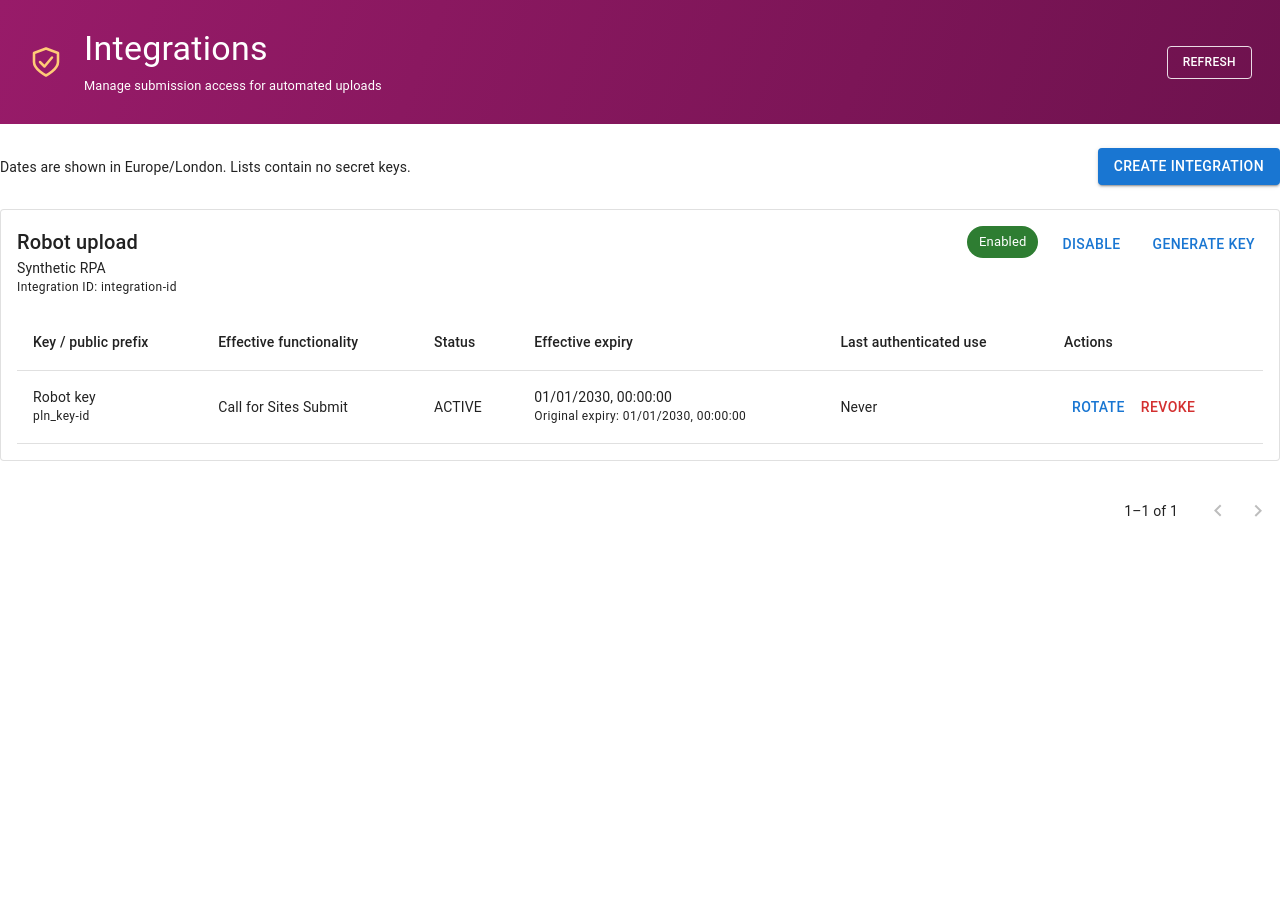
Test: integration administration › cancels key without a write
The width and height of the screenshot is (1280, 900).
Expected: the heading "Robot upload" is shown, [17,230,138,254]
Step 1. Click the button with aria-label "Generate key for Robot upload" → (1204, 244), box [1144,226,1263,262]
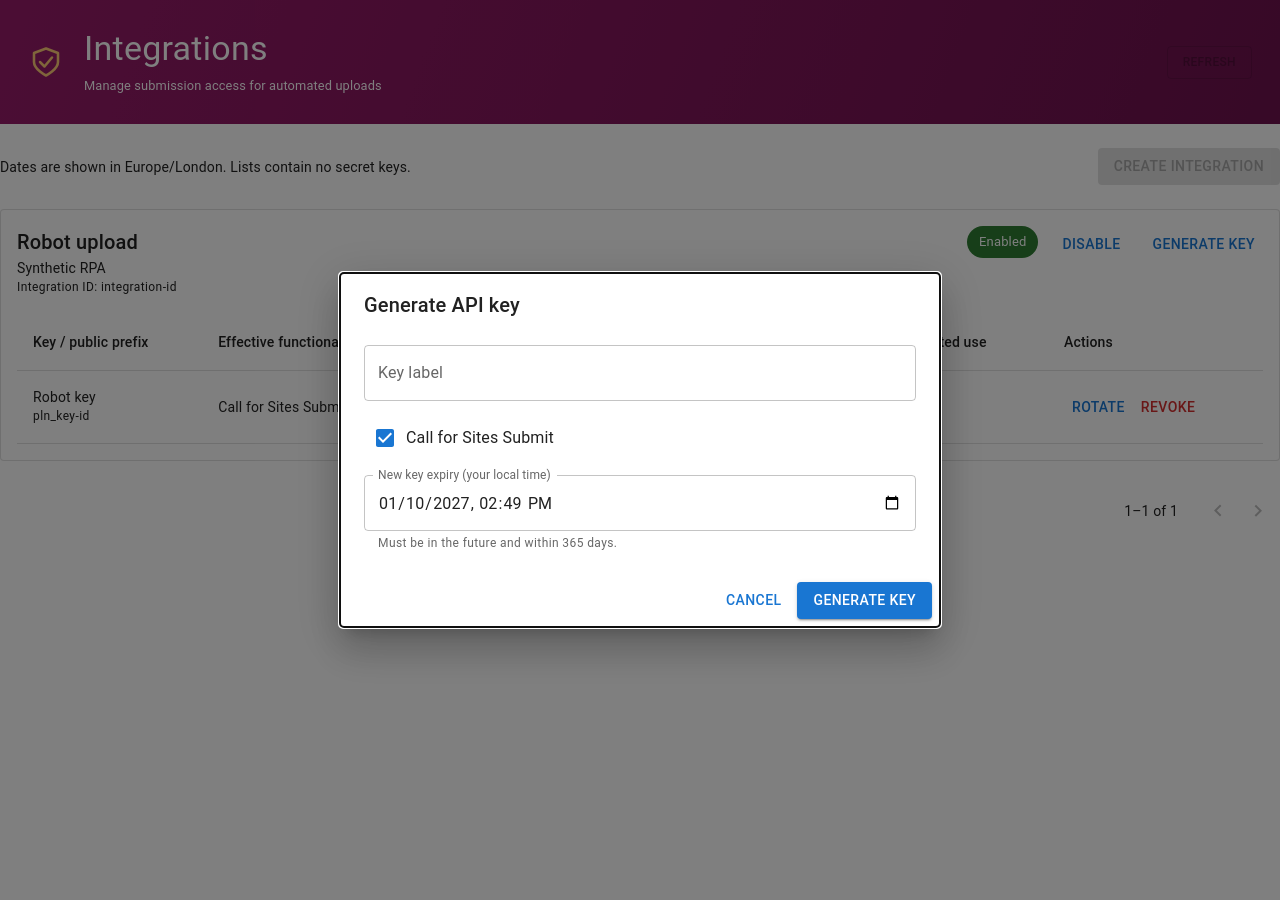
Step 2. Click the button "Cancel" → (754, 600), box [718,582,790,619]
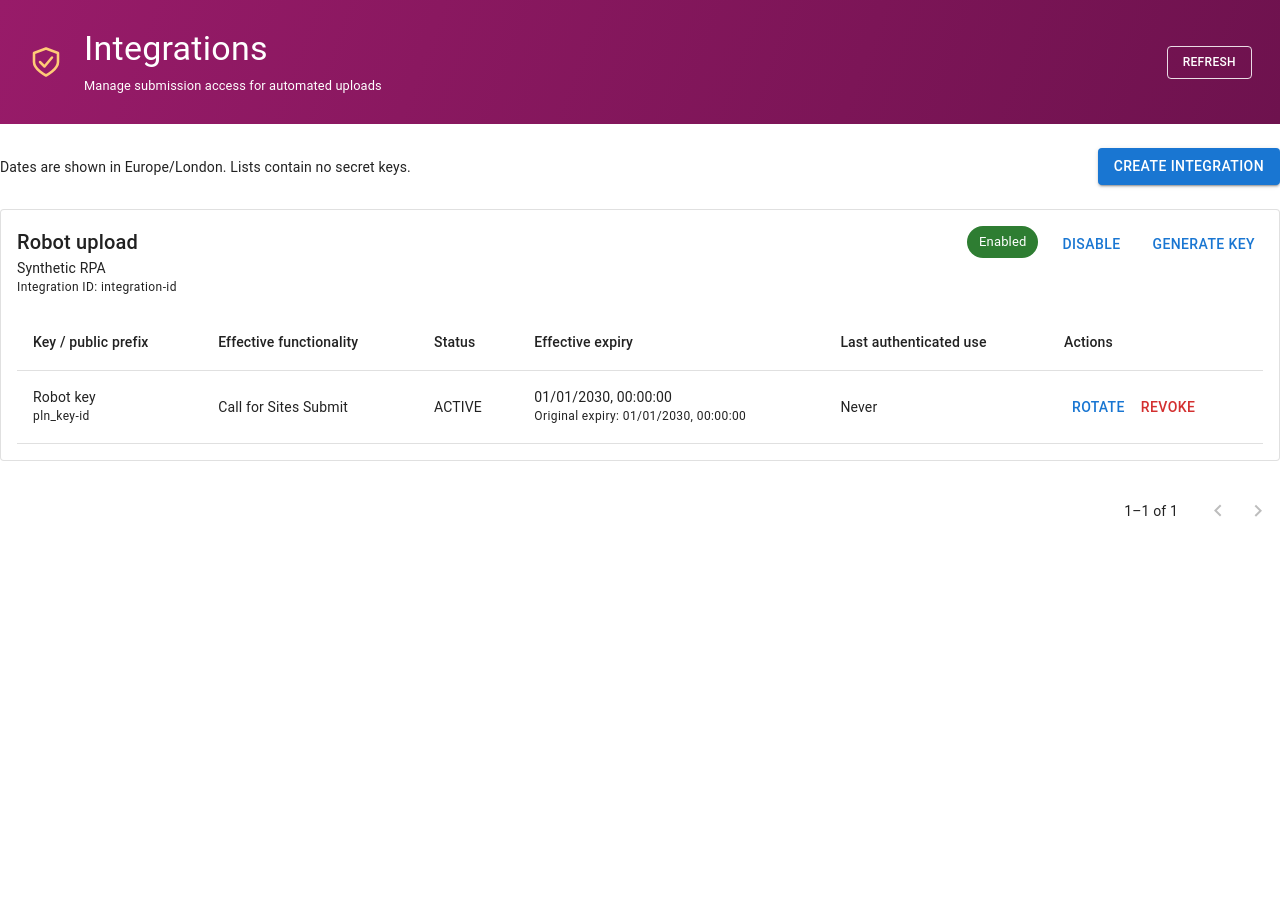
Now the dialog is gone
